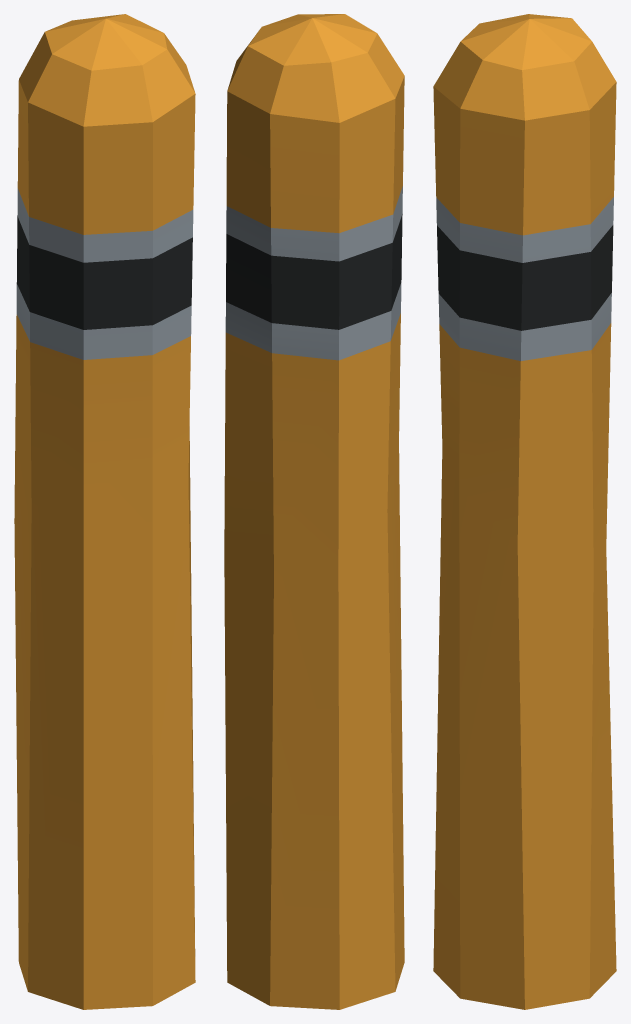
File: SM_Prop_Bollard_01.obj
3 renders of one model, left to right at view 1: azimuth 30°, elevation 25°; view 2: azimuth 150°, elevation 25°; view 3: azimuth 270°, elevation 25°, orthographic.
Visible parts, largest first — view 1: SM_Prop_Bollard_01_0; view 2: SM_Prop_Bollard_01_0; view 3: SM_Prop_Bollard_01_0.
Boxes of the visible parts, box(x1,y1,x2,y2) form: SM_Prop_Bollard_01_0: box(14, 14, 195, 1009); SM_Prop_Bollard_01_0: box(224, 14, 404, 1009); SM_Prop_Bollard_01_0: box(433, 14, 616, 1009).
Bounding box in the file's own units: 0.1761 × 1.01 × 0.1758.
Materials: 1 (1 with a texture image).
